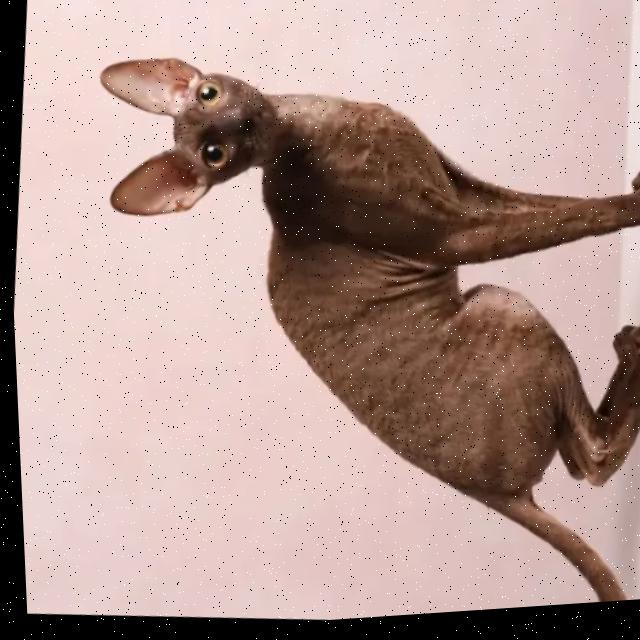Cornish Rex: (47, 19, 640, 638)
